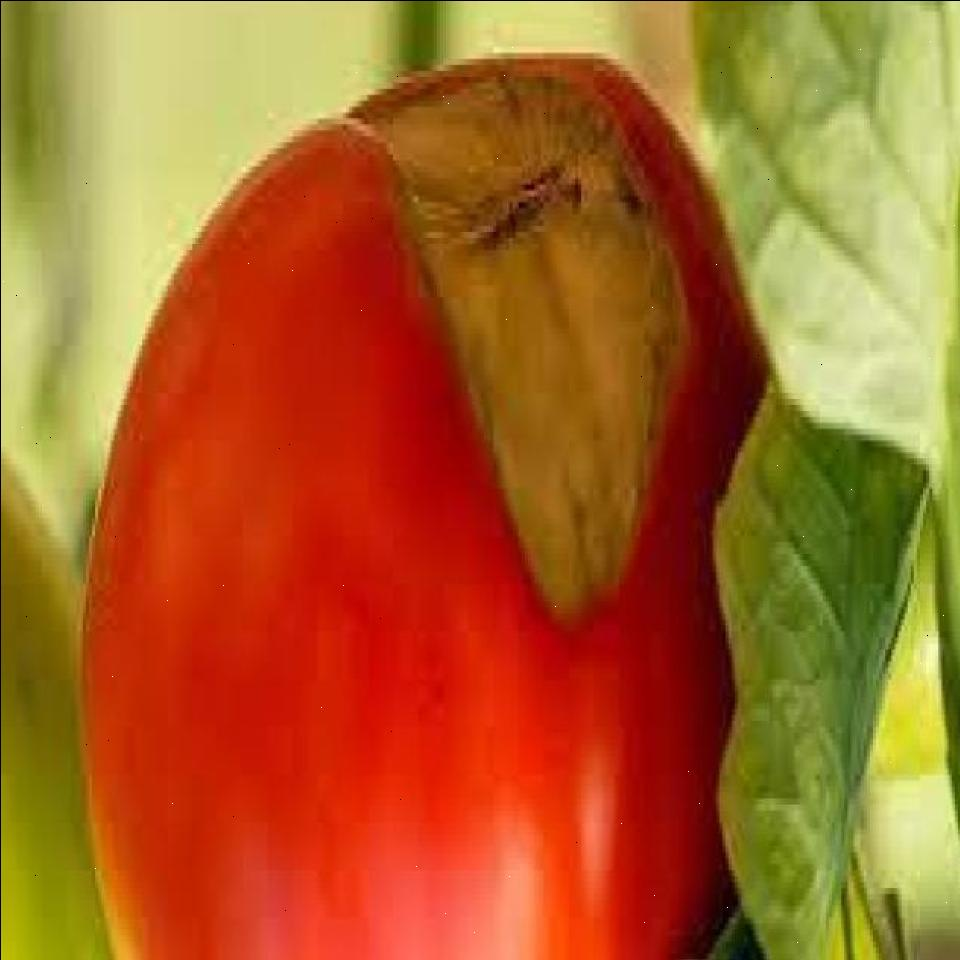Blossom_end_rot: (323, 67, 700, 633)
